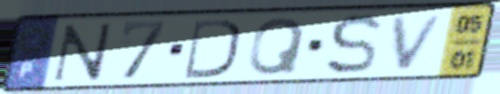7: (118, 18, 171, 83)
D: (182, 17, 242, 81)
N: (48, 21, 116, 84)
Q: (245, 15, 309, 78)
S: (323, 12, 385, 78)
V: (390, 12, 450, 73)
